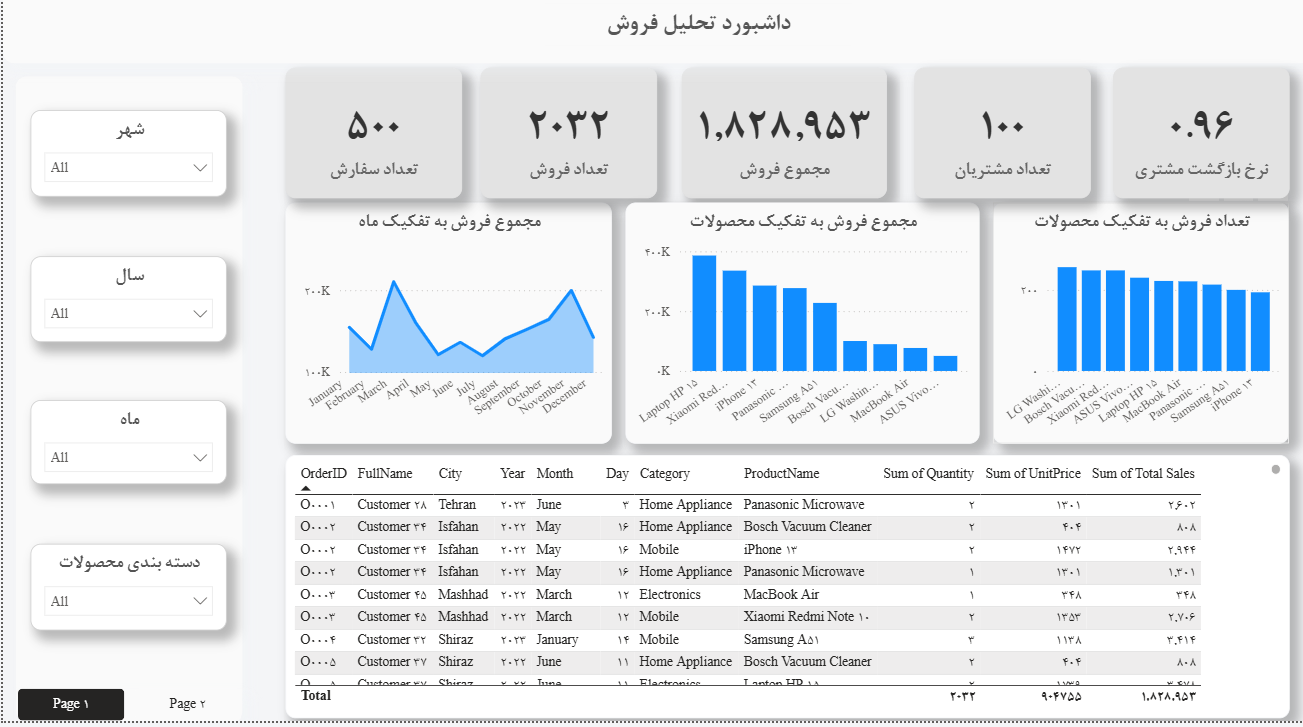

Layout of this report page (visuals, bound fields, positions):
{"tool":"powerbi","page":{"name":"Page 1","canvas":[1280,720],"ordinal":0},"visuals":[{"type":"shape","box":[12.3,88.8,222.3,631.2],"z":0},{"type":"slicer","title":"سال ","fields":{"Values":["FactOrders.OrderDate.Variation.Date Hierarchy.Year"]},"box":[27.4,264.8,192.1,83.7],"z":1000},{"type":"slicer","title":"شهر","fields":{"Values":["DimCustomers.City"]},"box":[27.4,122.1,192.1,85.1],"z":2000},{"type":"card","fields":{"Values":["Sum(FactOrderDetails.TotalAmount)"]},"box":[664,80.7,200.5,128.4],"z":3000},{"type":"stackedAreaChart","title":"مجموع فروش به تفکیک ماه","fields":{"Category":["FactOrders.OrderDate.Variation.Date Hierarchy.Month"],"Y":["Sum(FactOrderDetails.TotalAmount)"]},"box":[276.4,212.8,319.2,236],"z":4000},{"type":"card","fields":{"Values":["Count(FactOrderDetails.OrderID)"]},"box":[276.4,80.7,172.4,128.4],"z":5000},{"type":"card","fields":{"Values":["Sum(FactOrderDetails.Quantity)"]},"box":[467.1,80.7,172.4,128.4],"z":6000},{"type":"columnChart","title":"مجموع فروش به تفکیک  محصولات","fields":{"Y":["Sum(FactOrderDetails.TotalAmount)"],"Category":["DimProducts.ProductName"]},"box":[609,212.8,346.1,236],"z":7000},{"type":"columnChart","title":"تعداد فروش به تفکیک محصولات","fields":{"Category":["DimProducts.ProductName"],"Y":["Sum(FactOrderDetails.Quantity)"]},"box":[968.5,212.8,289.8,236],"z":8000},{"type":"tableEx","fields":{"Values":["FactOrders.OrderID","DimCustomers.FullName","DimCustomers.City","FactOrders.OrderDate.Variation.Date Hierarchy.Year","FactOrders.OrderDate.Variation.Date Hierarchy.Month","FactOrders.OrderDate.Variation.Date Hierarchy.Day","DimProducts.Category","DimProducts.ProductName","Sum(FactOrderDetails.Quantity)","Sum(FactOrderDetails.UnitPrice)","Sum(FactOrderDetails.LineAmount)"]},"box":[275.8,459.7,982.5,258],"z":9000},{"type":"slicer","title":"ماه","fields":{"Values":["FactOrders.OrderDate.Variation.Date Hierarchy.Month"]},"box":[27.4,406.2,192.1,82.3],"z":10000},{"type":"slicer","title":"دسته بندی محصولات","fields":{"Values":["DimProducts.Category"]},"box":[27.4,546.1,192.1,85.1],"z":11000},{"type":"pageNavigator","box":[15.1,688.9,219.6,31.6],"z":12000},{"type":"shape","box":[0,0,1280.3,76.8],"z":13000},{"type":"card","fields":{"Values":["CountNonNull(DimCustomers.CustomerID)"]},"box":[891.4,80.7,172.4,128.4],"z":14000},{"type":"textbox","title":"داشبورد تحلیل فروش","box":[531,17.8,299.1,41.2],"z":15000},{"type":"card","fields":{"Values":["FactOrders.Return Rate"]},"box":[1085.9,80.7,172.4,128.4],"z":16000}]}

Visuals, with their boxes in screenshot pixels (x1, y1, x2, y2), scaled from the page's 1280x720 canvas onto the 1303x727 screenshot:
shape: (13,90,239,726)
"سال " slicer: (28,267,223,352)
"شهر" slicer: (28,123,223,209)
card - Sum(FactOrderDetails.TotalAmount): (676,81,880,211)
"مجموع فروش به تفکیک ماه" stackedAreaChart: (281,215,606,453)
card - Count(FactOrderDetails.OrderID): (281,81,457,211)
card - Sum(FactOrderDetails.Quantity): (475,81,651,211)
"مجموع فروش به تفکیک  محصولات" columnChart: (620,215,972,453)
"تعداد فروش به تفکیک محصولات" columnChart: (986,215,1281,453)
tableEx - FactOrders.OrderID x DimCustomers.FullName: (281,464,1281,725)
"ماه" slicer: (28,410,223,493)
"دسته بندی محصولات" slicer: (28,551,223,637)
pageNavigator: (15,696,239,726)
shape: (0,0,1302,78)
card - CountNonNull(DimCustomers.CustomerID): (907,81,1083,211)
"داشبورد تحلیل فروش" textbox: (541,18,845,60)
card - FactOrders.Return Rate: (1105,81,1281,211)
